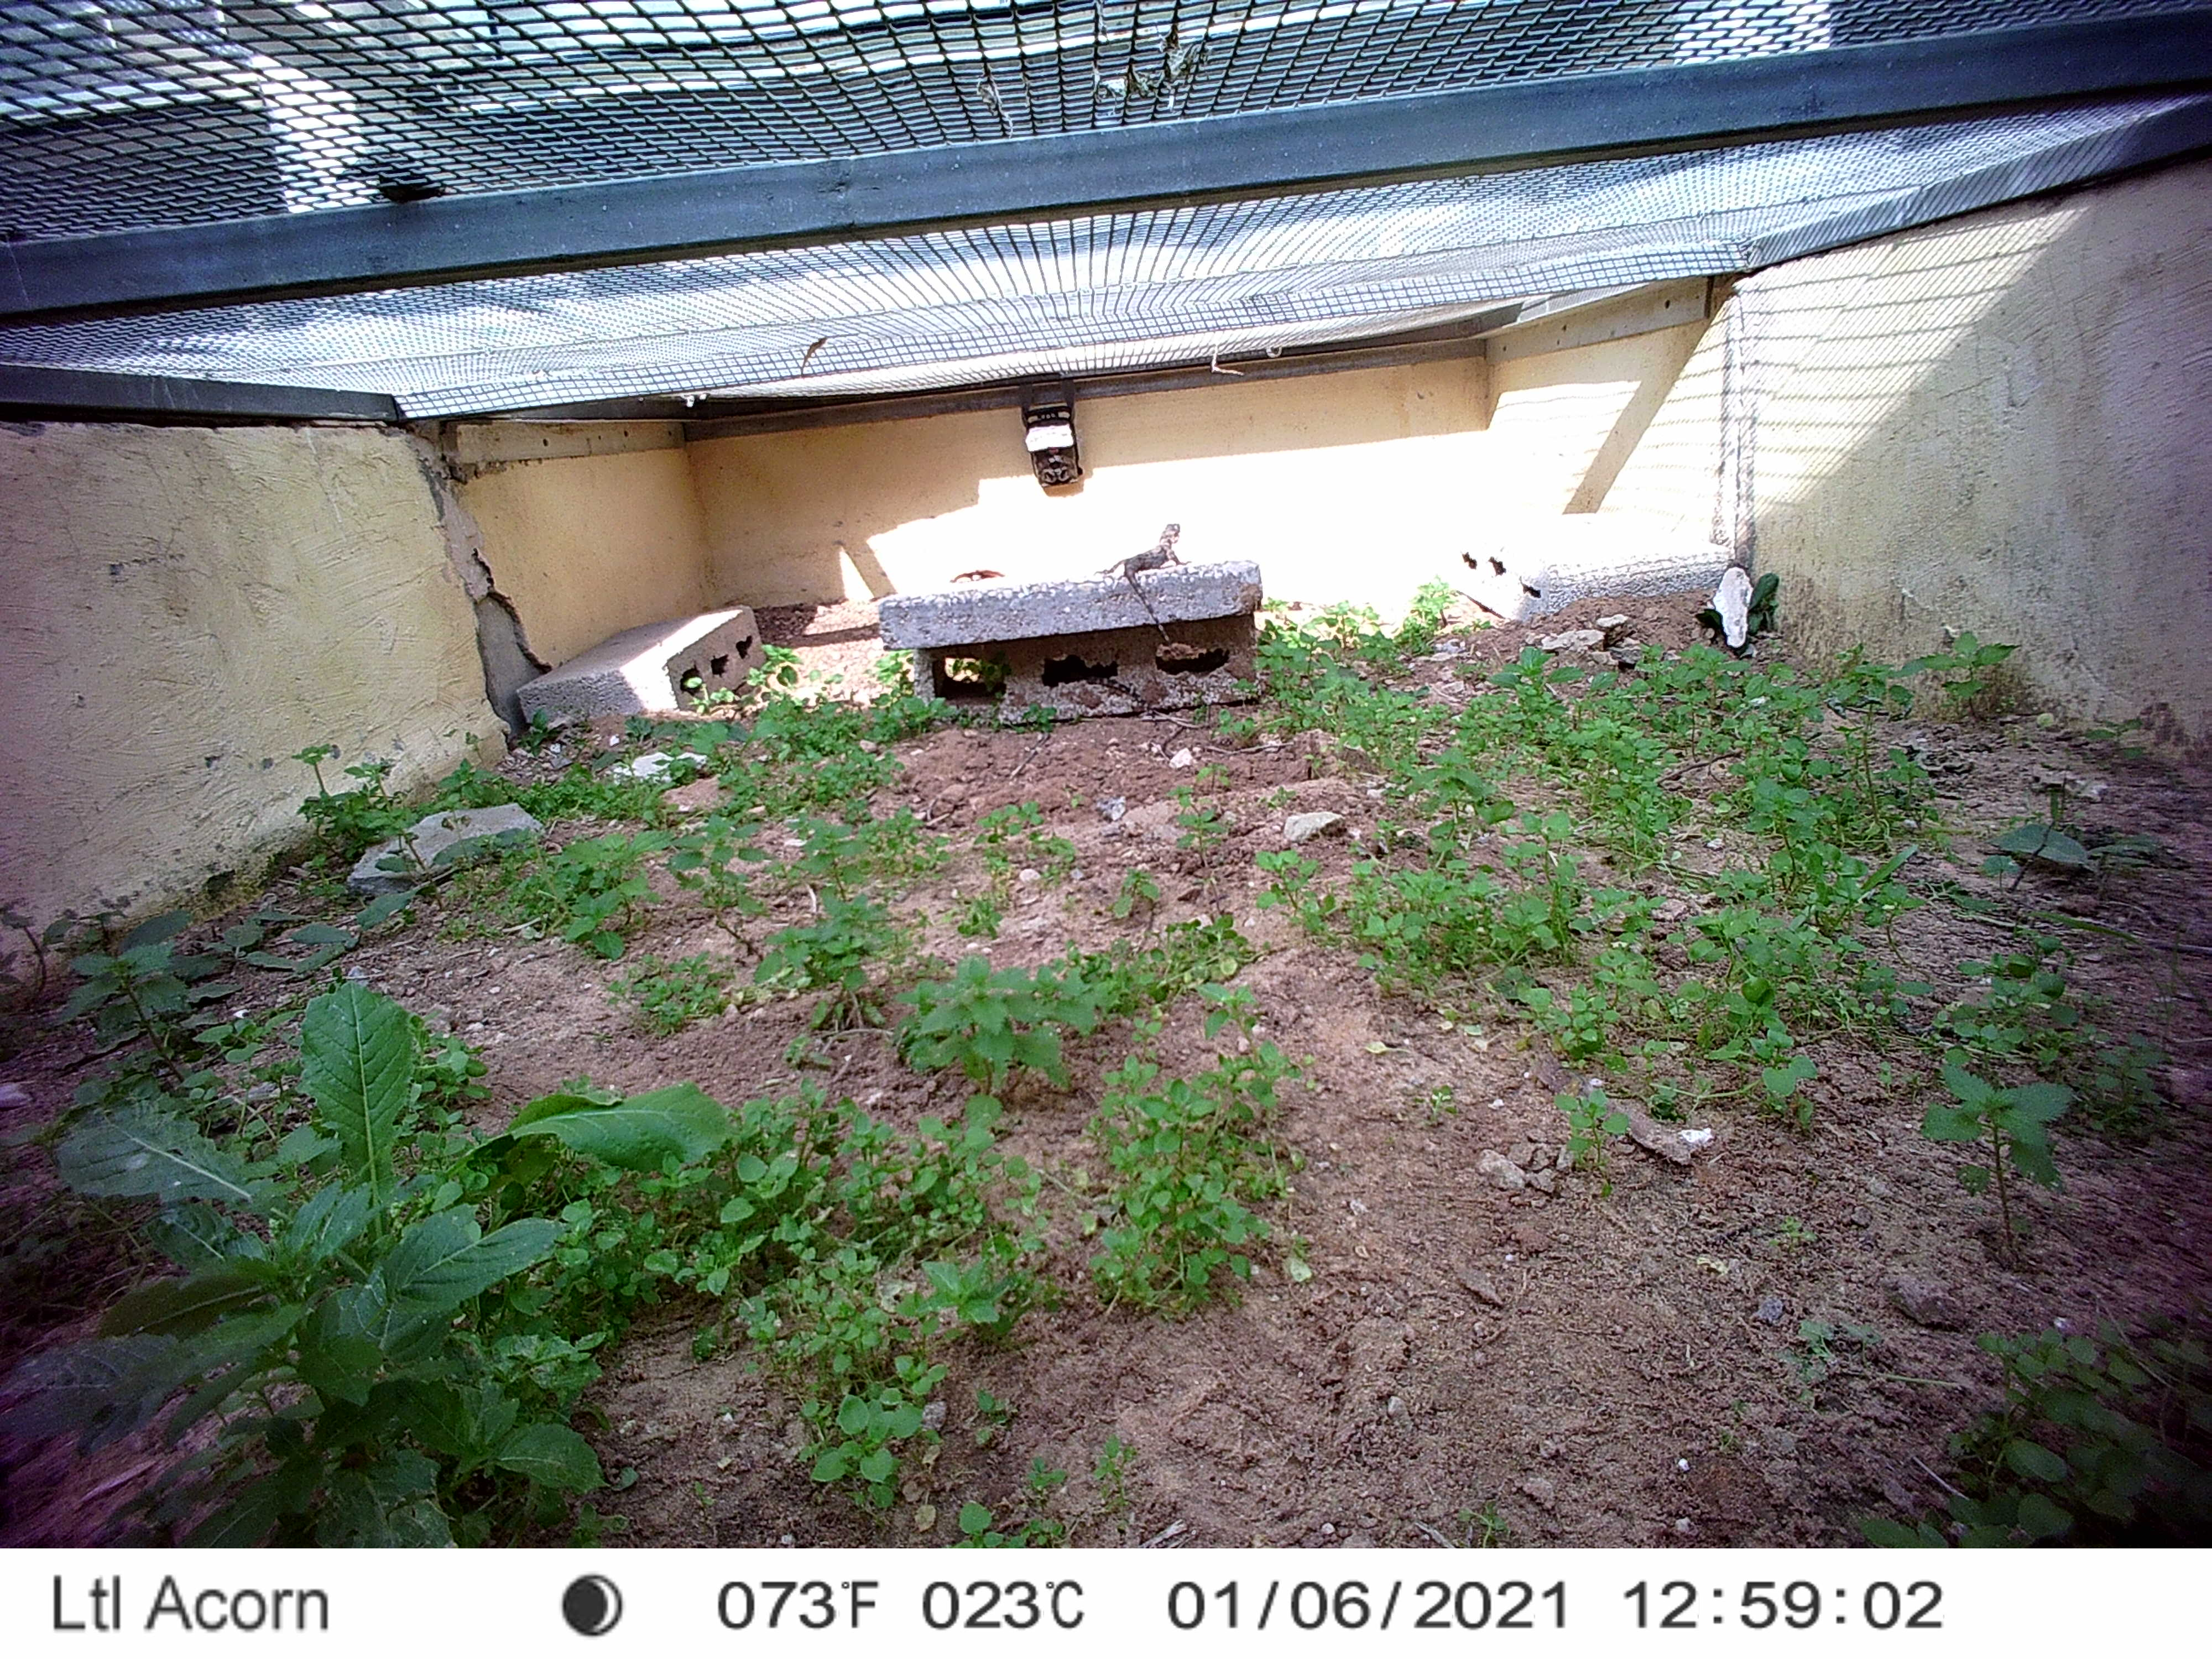lizard: (1099, 516, 1188, 655)
